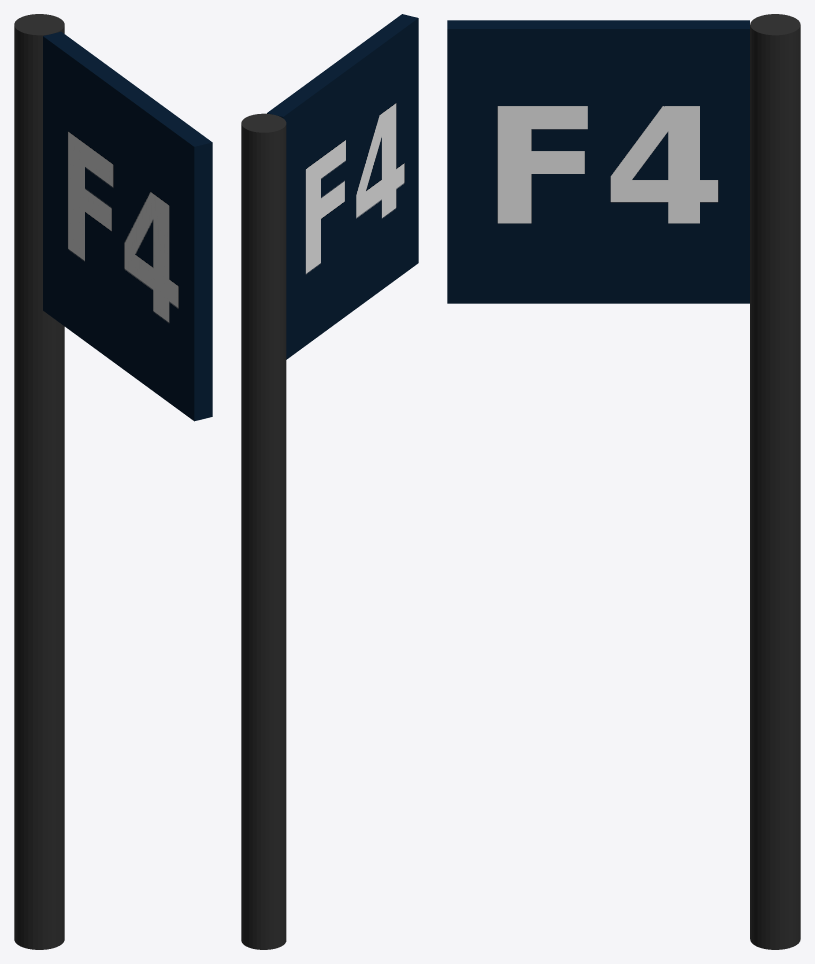
The model's file is start_flag.dae.
The picture shows the model from 3 angles, left to right: view 1: azimuth 30°, elevation 25°; view 2: azimuth 150°, elevation 25°; view 3: azimuth 270°, elevation 25°; orthographic projection. The views are drawn at different scales.
Parts seen in each view (by area): view 1: flag; view 2: flag; view 3: flag.
Boxes of the visible parts, <box> form: flag: <box>14,14,212,949</box>; flag: <box>241,14,418,949</box>; flag: <box>447,14,800,949</box>.
Bounding box in the file's own units: 0.1 × 0.7 × 2.
Materials: 2 (1 with a texture image).
